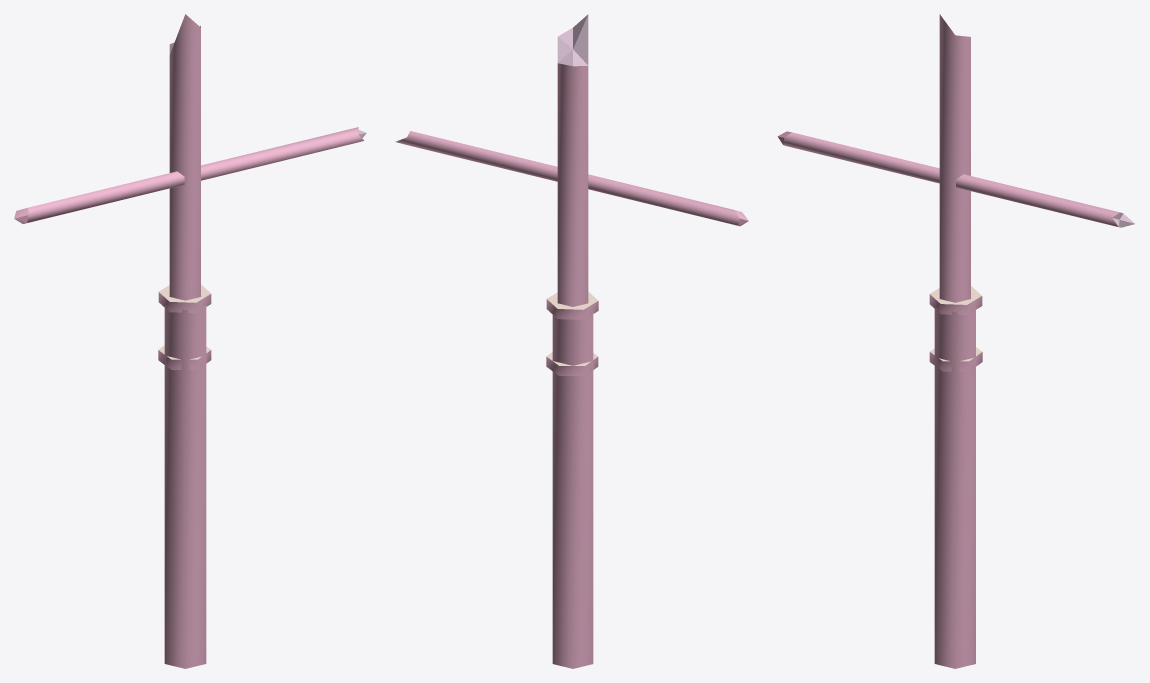
Rendered from ytlds_Object (19).fbx.
3 renders of one model, left to right at view 1: azimuth 30°, elevation 25°; view 2: azimuth 150°, elevation 25°; view 3: azimuth 330°, elevation 25°, orthographic.
Parts seen in each view (by area): view 1: Object19; view 2: Object19; view 3: Object19.
Boxes of the visible parts, x1,y1,x2,y2 form: Object19: [14, 14, 366, 668]; Object19: [395, 14, 748, 668]; Object19: [777, 14, 1134, 668].
Size of the model in its own units: 324 by 566 by 42.06.
